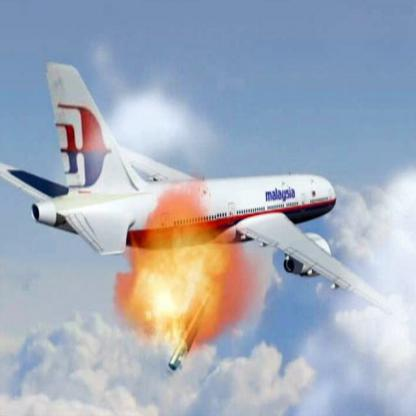CIV_Plane: (0, 54, 409, 338)
